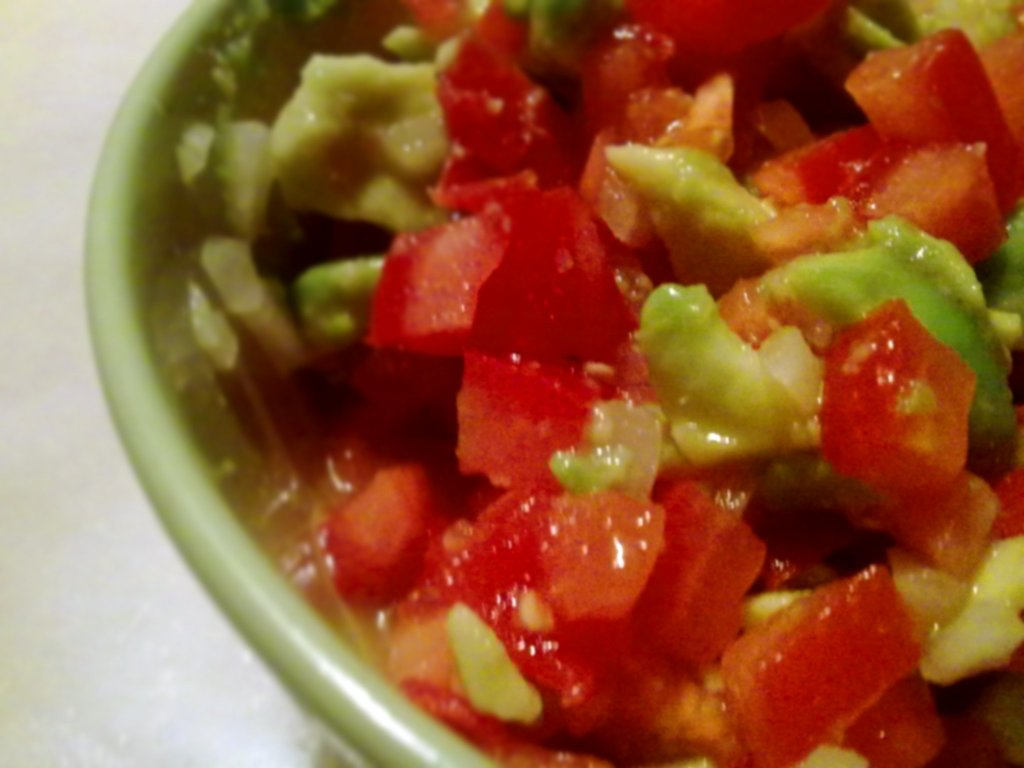salad: (159, 0, 1023, 767)
